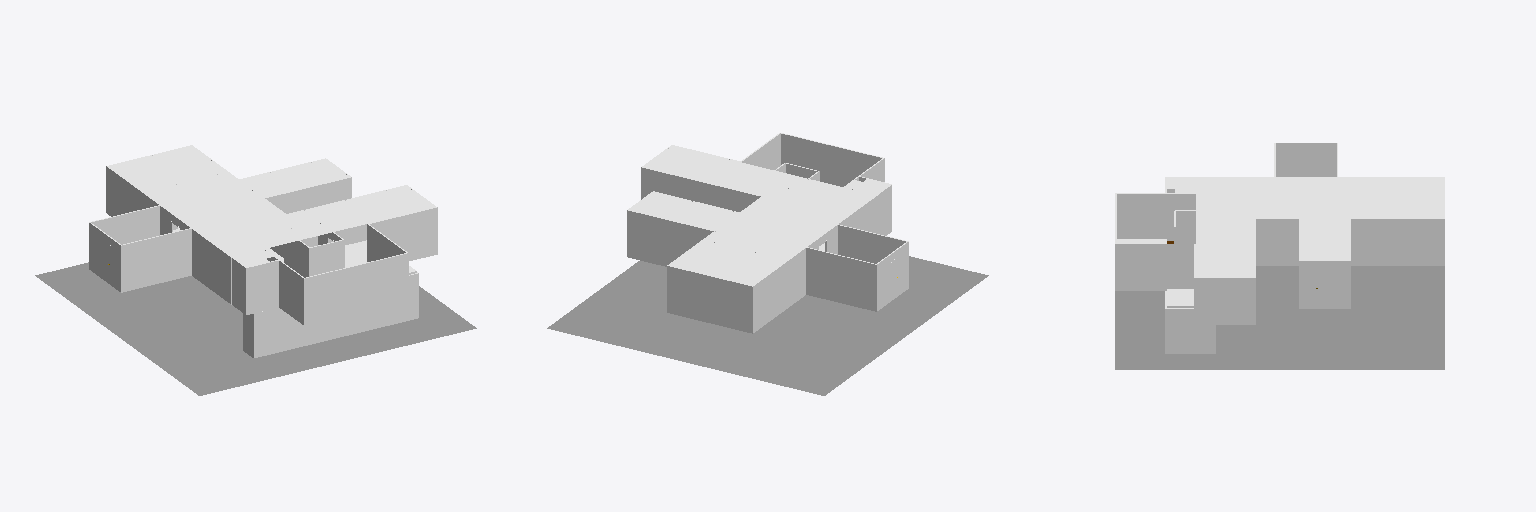
File: Museum.obj
The picture shows the model from 3 angles: view 1: azimuth 30°, elevation 25°; view 2: azimuth 150°, elevation 25°; view 3: azimuth 270°, elevation 25°; orthographic projection.
Parts seen in each view (by area): view 1: ground_1, wall_1_5, room_37_214, wall_32_191, room_47_232, room_44_227, wall_16_95, wall_7_40, wall_3_17, room_45_229, room_38_216, wall_24_142 (+12 smaller); view 2: ground_1, wall_34_202, room_37_214, wall_30_179, wall_27_160, room_47_232, room_44_227, wall_1_4, wall_8_47, room_45_229, wall_7_40, room_38_216 (+7 smaller); view 3: ground_1, wall_2_11, room_37_214, wall_35_208, wall_9_53, wall_5_29, wall_4_23, room_44_227, room_47_232, room_45_229, room_38_216, wall_17_101 (+5 smaller).
Part boxes in pixels (bbox=[...]): ground_1: bbox=[35, 262, 476, 395]; wall_1_5: bbox=[304, 253, 408, 325]; room_37_214: bbox=[177, 172, 285, 248]; wall_32_191: bbox=[121, 229, 191, 291]; room_47_232: bbox=[108, 146, 226, 191]; room_44_227: bbox=[144, 185, 263, 256]; wall_16_95: bbox=[297, 273, 418, 347]; wall_7_40: bbox=[142, 193, 230, 303]; wall_3_17: bbox=[370, 207, 437, 260]; room_45_229: bbox=[241, 159, 348, 197]; room_38_216: bbox=[338, 186, 434, 223]; wall_24_142: bbox=[254, 308, 296, 357]; ground_1: bbox=[547, 256, 988, 395]; wall_34_202: bbox=[667, 266, 752, 333]; room_37_214: bbox=[705, 187, 842, 251]; wall_30_179: bbox=[806, 248, 876, 311]; wall_27_160: bbox=[627, 210, 713, 266]; room_47_232: bbox=[669, 240, 786, 285]; room_44_227: bbox=[755, 187, 875, 259]; wall_1_4: bbox=[781, 134, 881, 186]; wall_8_47: bbox=[641, 167, 760, 211]; room_45_229: bbox=[630, 192, 737, 230]; wall_7_40: bbox=[789, 196, 877, 306]; room_38_216: bbox=[644, 146, 740, 183]; ground_1: bbox=[1115, 266, 1444, 369]; wall_2_11: bbox=[1115, 244, 1193, 290]; room_37_214: bbox=[1197, 194, 1371, 217]; wall_35_208: bbox=[1373, 219, 1444, 265]; wall_9_53: bbox=[1256, 219, 1372, 265]; wall_5_29: bbox=[1117, 194, 1195, 240]; wall_4_23: bbox=[1194, 278, 1255, 324]; room_44_227: bbox=[1196, 178, 1371, 193]; room_47_232: bbox=[1373, 178, 1442, 217]; room_45_229: bbox=[1300, 219, 1349, 260]; room_38_216: bbox=[1196, 244, 1254, 276]; wall_17_101: bbox=[1165, 309, 1215, 353].
Size of the model in its own units: 1617 by 512 by 1662.